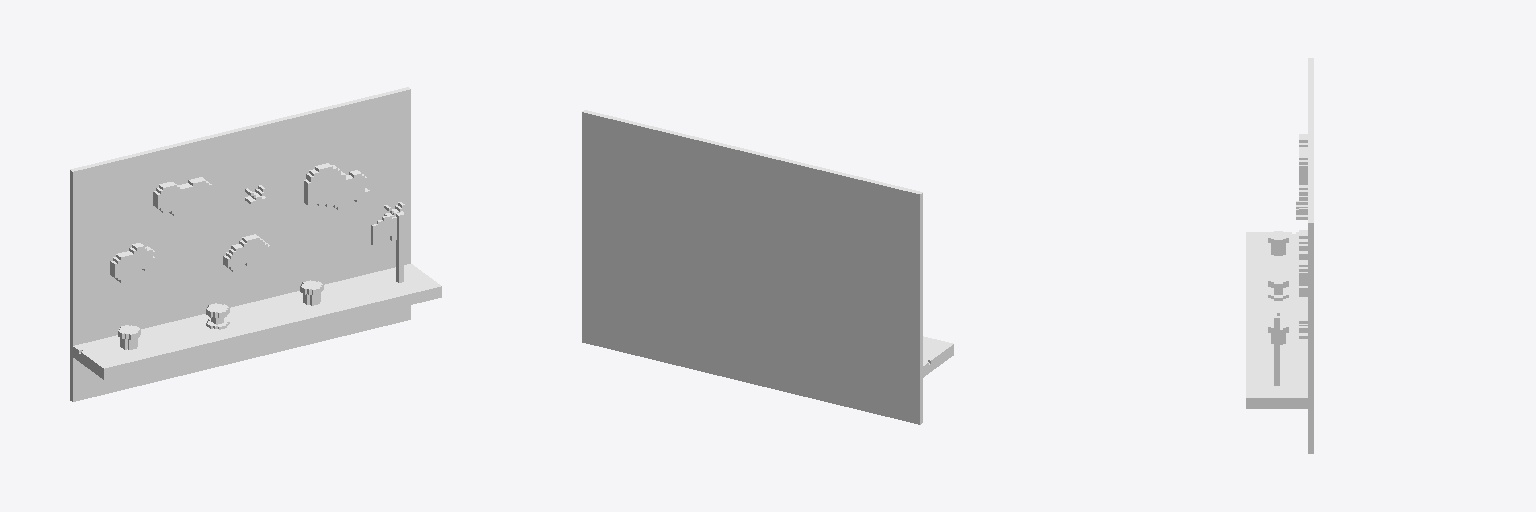
The model's file is sence.obj.
3 renders of one model, left to right at view 1: azimuth 30°, elevation 25°; view 2: azimuth 150°, elevation 25°; view 3: azimuth 270°, elevation 25°, orthographic.
Parts seen in each view (by area): view 1: sence; view 2: sence; view 3: sence.
Boxes of the visible parts, box(x1,y1,x2,y2) form: sence: box(70, 87, 441, 401); sence: box(582, 110, 953, 424); sence: box(1246, 58, 1313, 453).
Size of the model in its own units: 126 by 82 by 22.